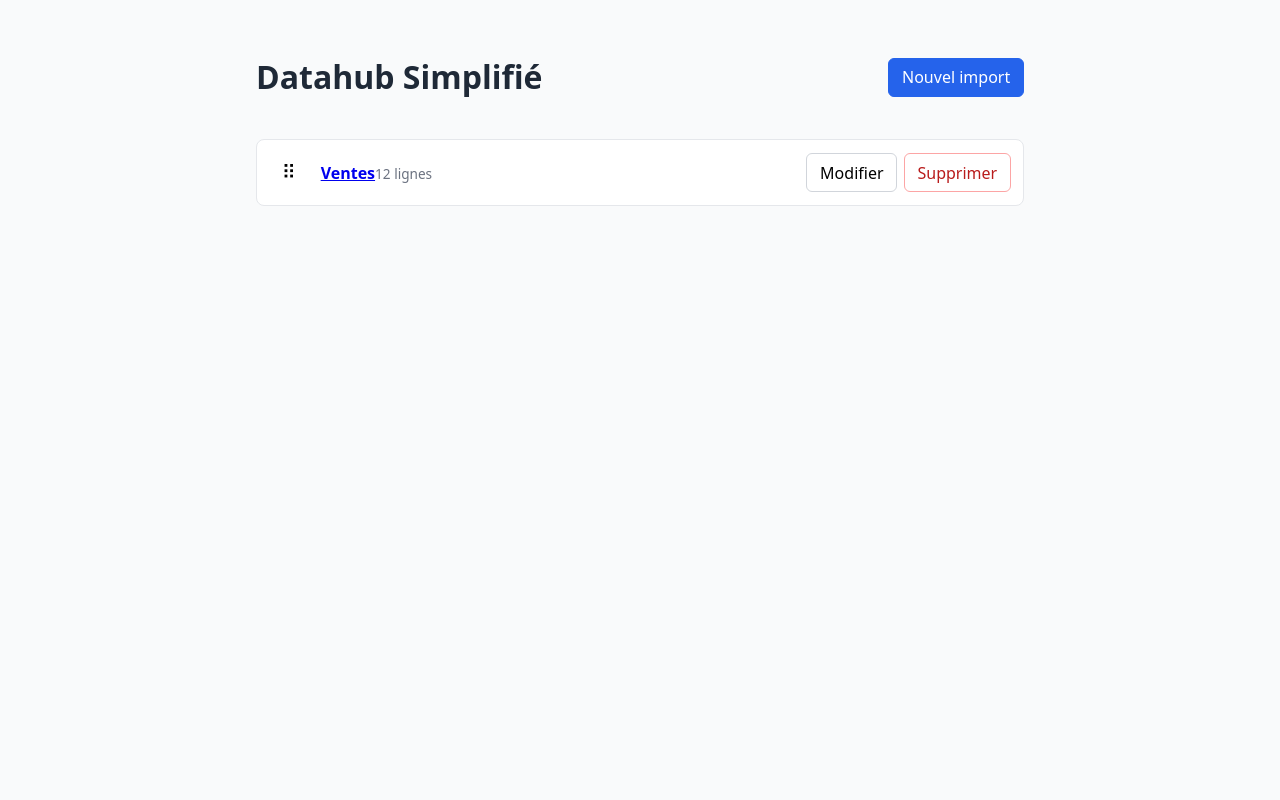
Test: HomePage › asks for confirmation before deleting, and forgets the saved table state
Click the button with aria-label "Supprimer Ventes" at (957, 173), box 904,153 -> 1011,192
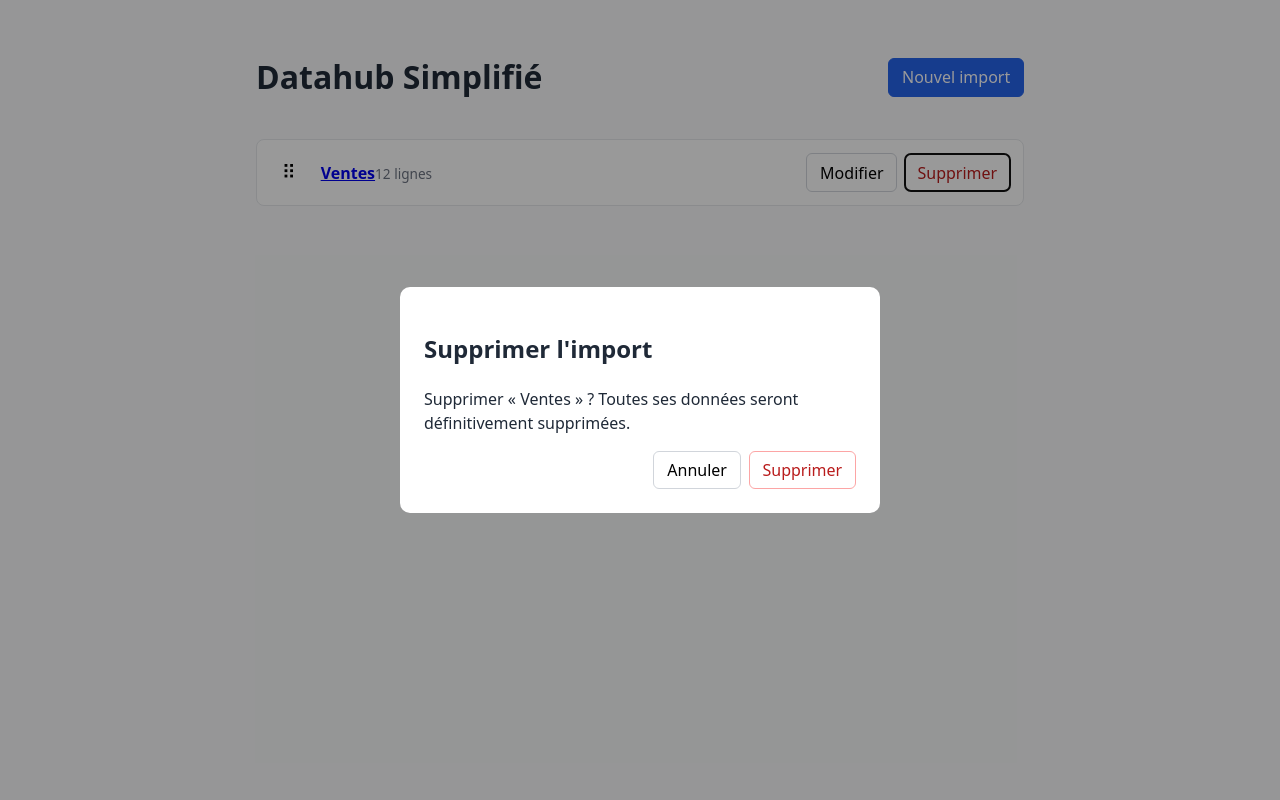
Click the button "Annuler" at (697, 470), box 654,450 -> 741,489
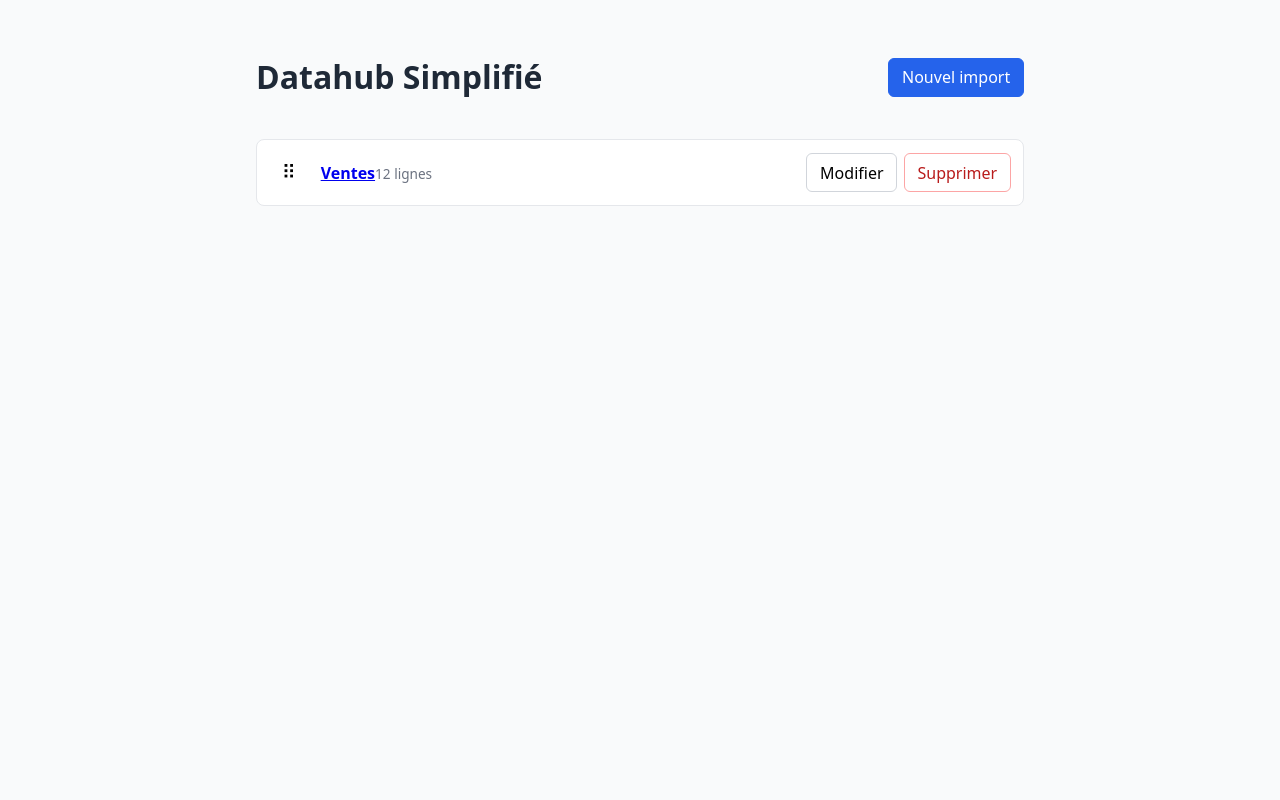
Expected: the dialog is gone
Click the button with aria-label "Supprimer Ventes" at (957, 173), box 904,153 -> 1011,192
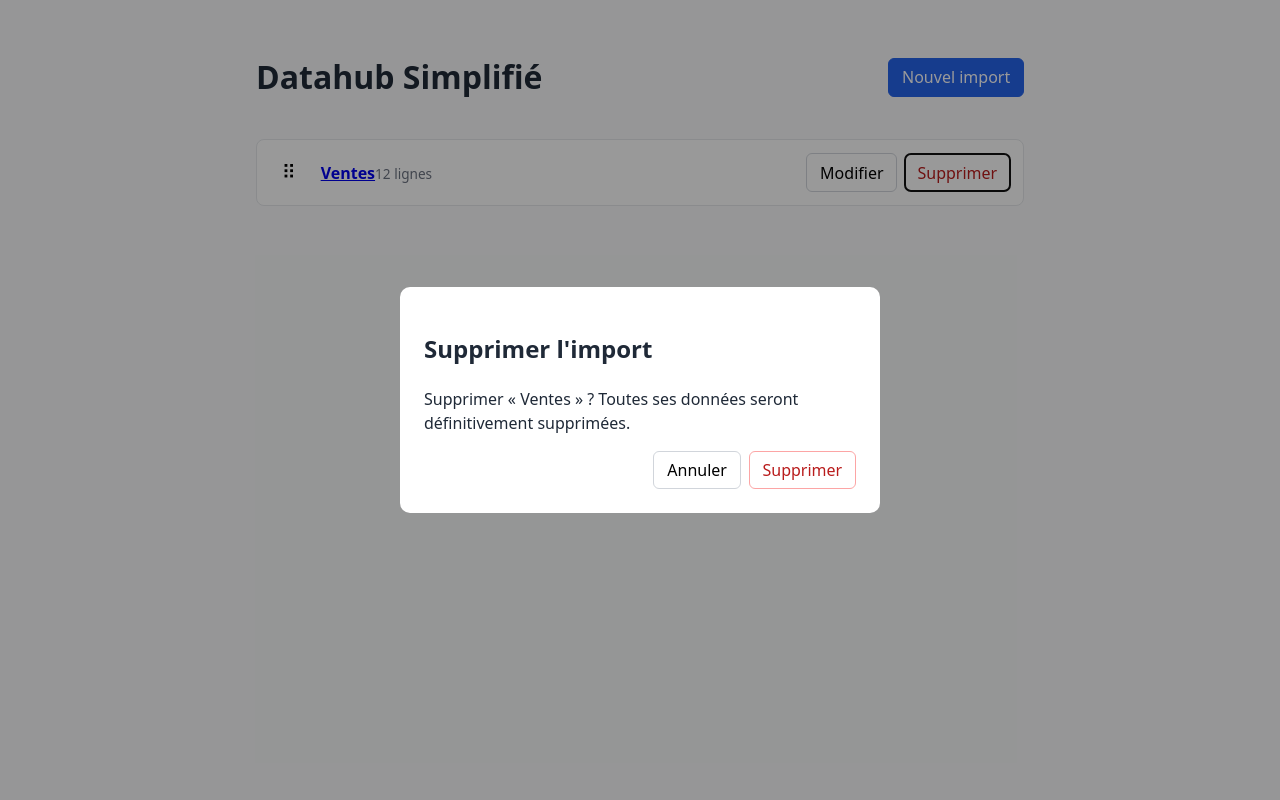
Click the button "Supprimer" at (802, 470), box 749,450 -> 856,489
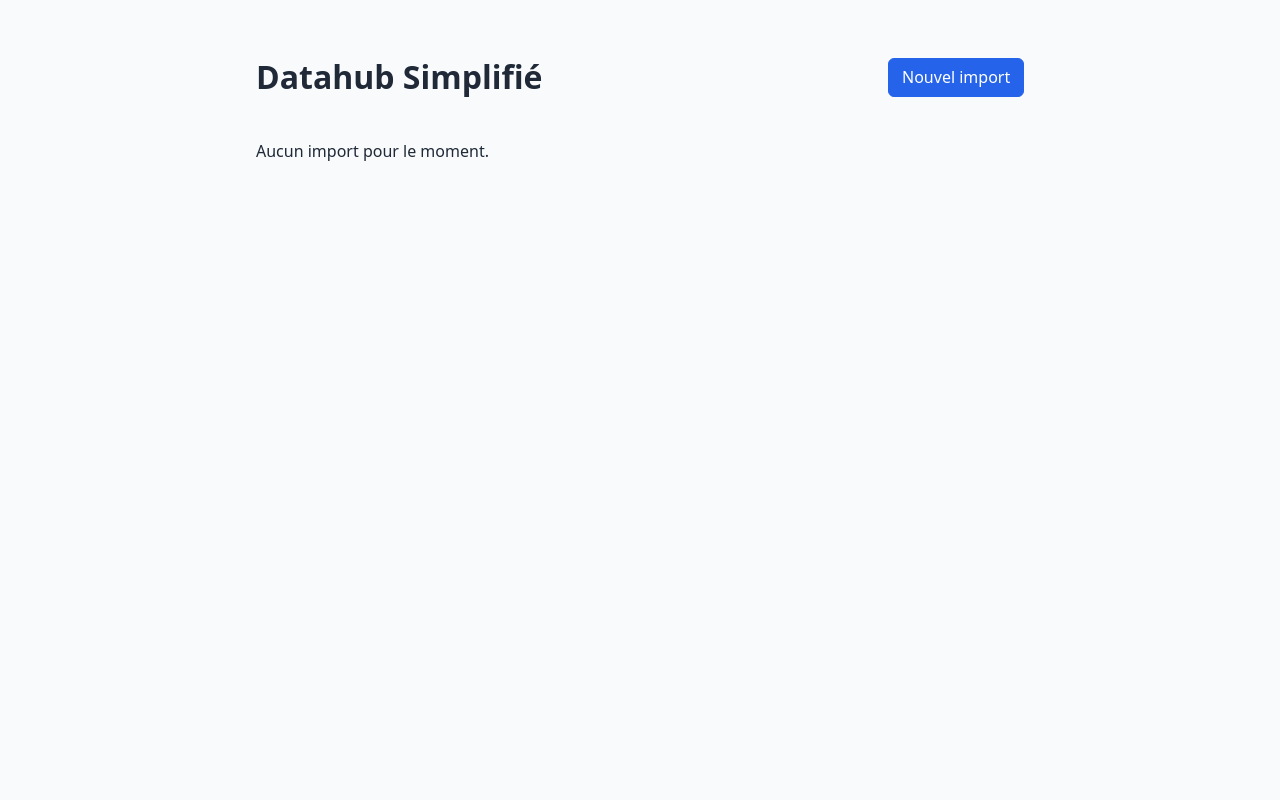
Expected: the text "Aucun import pour le moment." is shown, 256,140 -> 489,162
